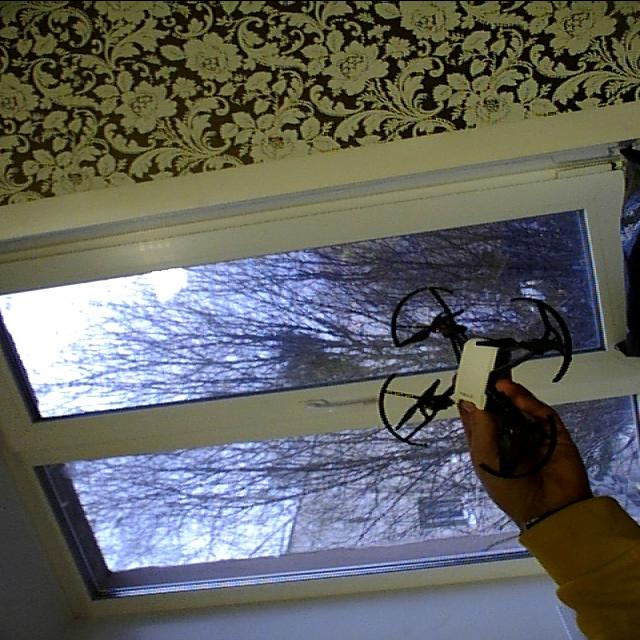drone: (378, 280, 578, 478)
